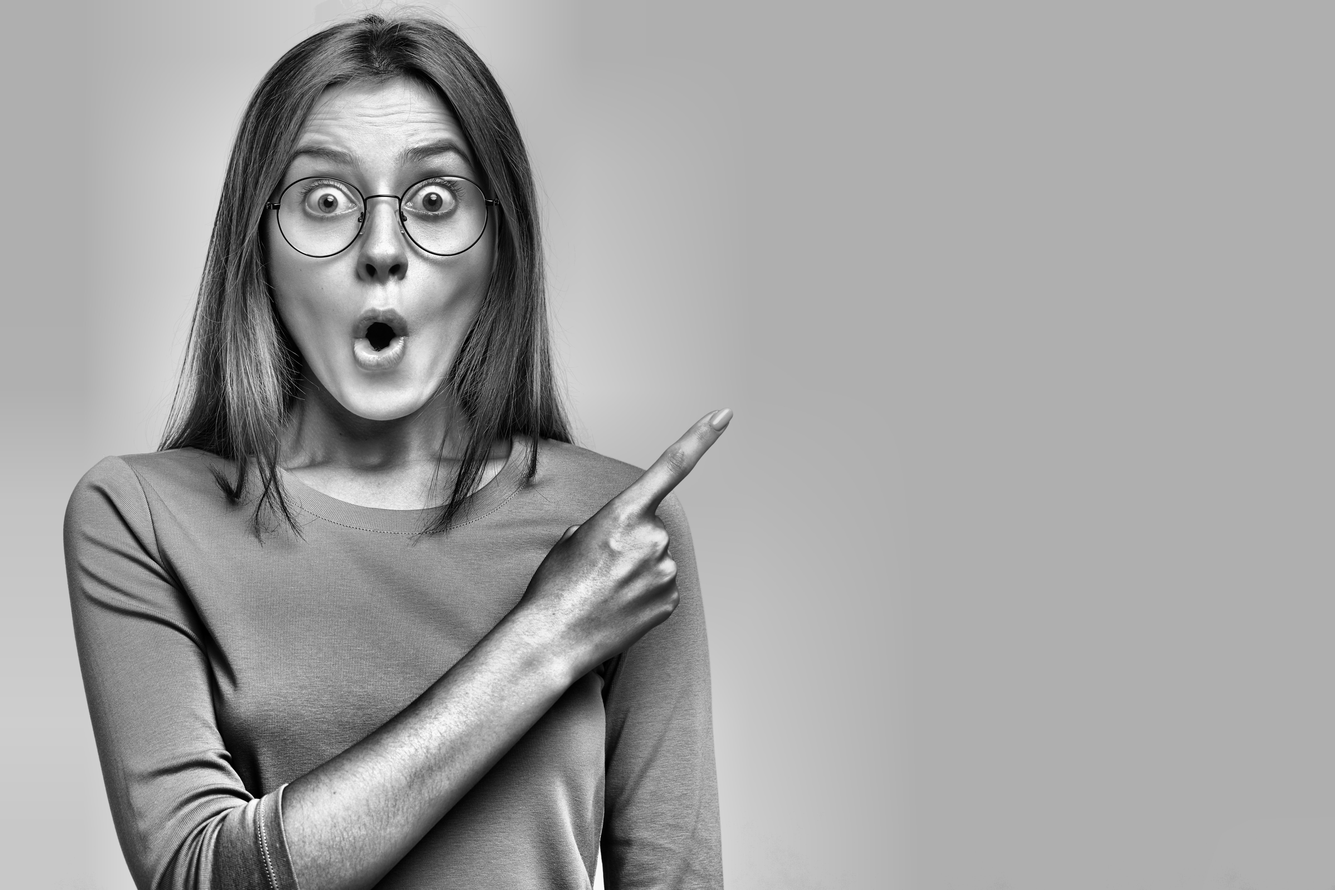surprised: (244, 87, 519, 464)
